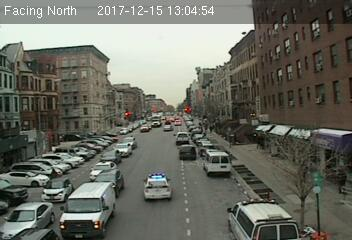car: (3, 202, 52, 236), (94, 170, 125, 195), (42, 178, 73, 200), (89, 162, 116, 180), (100, 150, 121, 163), (178, 145, 196, 160), (113, 143, 133, 156), (174, 132, 190, 144)
police: (227, 196, 300, 240), (141, 172, 173, 201)
truck: (61, 182, 116, 237), (204, 150, 232, 177)
